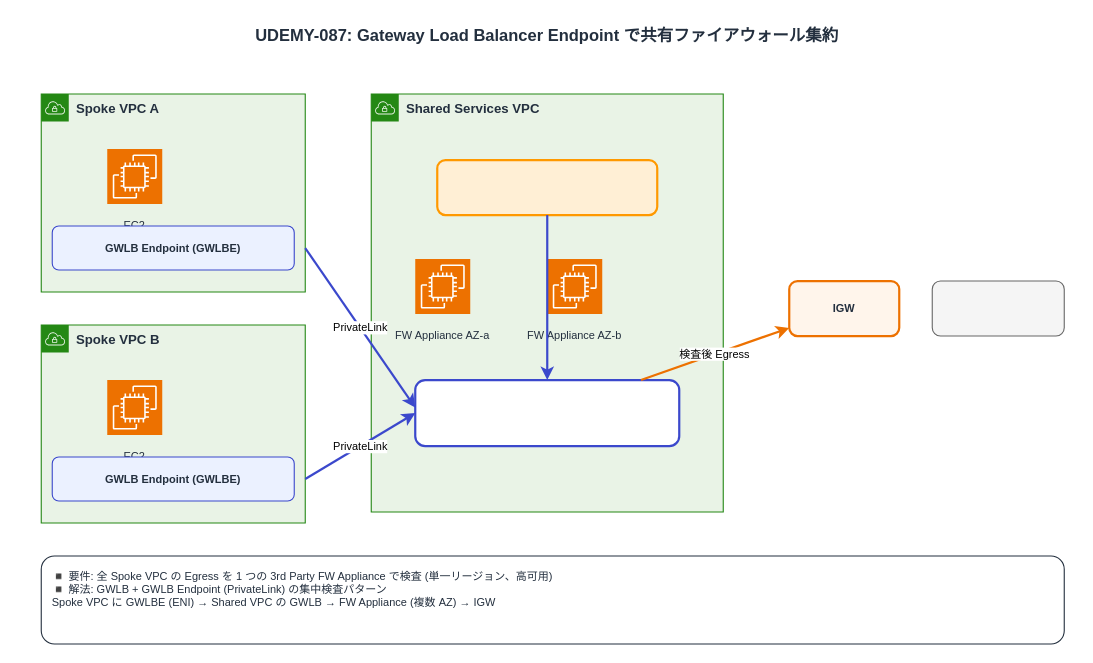
Image size: 1093x663. Some labels were removed from this diagram. The centre of each missing label's shape, as x and y in pixels:
"Endpoint Service (GWLB をバックエンドに)" goes at (547,412).
"Gateway Load Balancer (Appliance側)" goes at (547,187).
"Internet" goes at (997,308).
